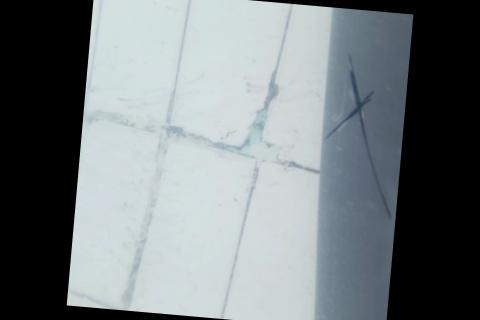keretakan: (317, 51, 409, 220)
